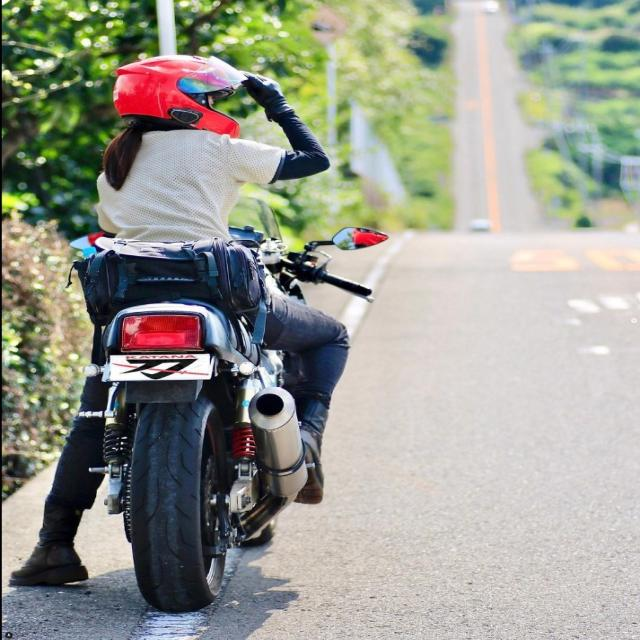helmet: (108, 49, 251, 141)
